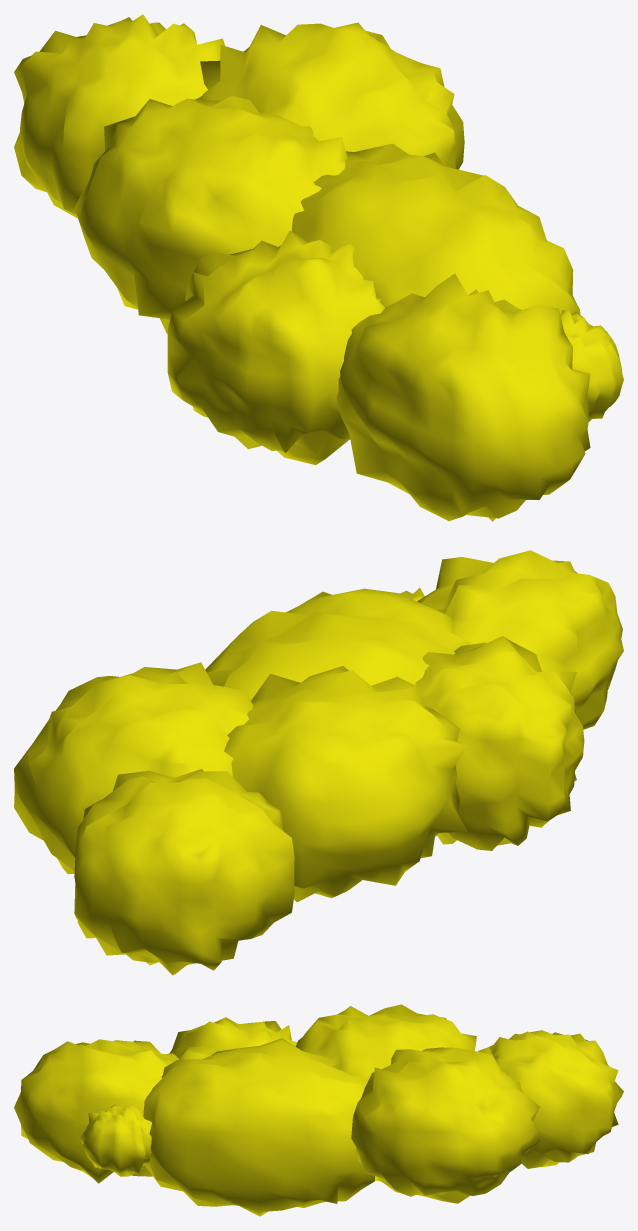
Rendered from CLOUD_TRUE_SMALLfbx.fbx.
3 views of the same model, one above another, from view 1: azimuth 30°, elevation 25°; view 2: azimuth 150°, elevation 25°; view 3: azimuth 270°, elevation 25° (orthographic). The views are drawn at different scales.
Visible parts, largest first — view 1: CLOUD_BASE; view 2: CLOUD_BASE; view 3: CLOUD_BASE.
Boxes of the visible parts, bbox=[...] form: CLOUD_BASE: bbox=[14, 14, 623, 521]; CLOUD_BASE: bbox=[14, 550, 623, 975]; CLOUD_BASE: bbox=[14, 1004, 623, 1216].
Size of the model in its own units: 475 by 283 by 954.
